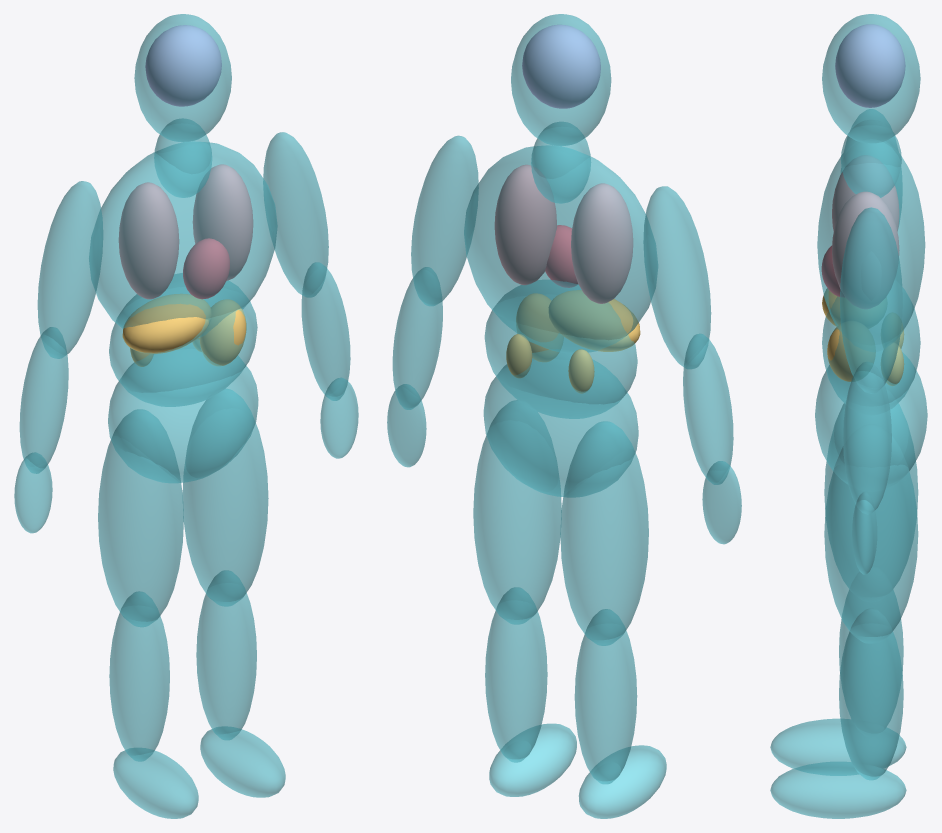
Rendered from male.glb.
The picture shows the model from 3 angles, left to right: view 1: azimuth 30°, elevation 25°; view 2: azimuth 150°, elevation 25°; view 3: azimuth 270°, elevation 25°; orthographic projection. The views are drawn at different scales.
Parts seen in each view (by area): view 1: reference.thorax, reference.pelvis, reference.right.thigh, reference.left.thigh, reference.abdomen, reference.head, reference.right.upper-arm, reference.right.calf, reference.left.calf, reference.left.upper-arm, reference.lung.right, reference.right.forearm (+11 smaller); view 2: reference.thorax, reference.pelvis, reference.abdomen, reference.right.thigh, reference.left.thigh, reference.head, reference.right.upper-arm, reference.left.calf, reference.right.calf, reference.left.upper-arm, reference.lung.right, reference.lung.left (+13 smaller); view 3: reference.left.thigh, reference.thorax, reference.head, reference.left.upper-arm, reference.left.calf, reference.right.thigh, reference.lung.left, reference.right.calf, reference.pelvis, reference.left.foot, reference.left.forearm, reference.right.foot (+10 smaller).
Part boxes in pixels (bbox=[...]): reference.thorax: bbox=[89, 141, 277, 337]; reference.pelvis: bbox=[108, 339, 258, 482]; reference.right.thigh: bbox=[98, 409, 183, 626]; reference.left.thigh: bbox=[182, 389, 268, 606]; reference.abdomen: bbox=[109, 273, 257, 406]; reference.head: bbox=[134, 14, 231, 141]; reference.right.upper-arm: bbox=[37, 181, 103, 358]; reference.right.calf: bbox=[109, 591, 169, 761]; reference.left.calf: bbox=[196, 570, 256, 739]; reference.left.upper-arm: bbox=[263, 132, 328, 297]; reference.lung.right: bbox=[118, 182, 179, 299]; reference.right.forearm: bbox=[19, 327, 68, 473]; reference.thorax: bbox=[464, 145, 657, 353]; reference.pelvis: bbox=[483, 350, 638, 497]; reference.abdomen: bbox=[484, 280, 637, 418]; reference.right.thigh: bbox=[560, 421, 648, 645]; reference.left.thigh: bbox=[473, 400, 561, 624]; reference.head: bbox=[511, 14, 611, 145]; reference.right.upper-arm: bbox=[643, 186, 711, 368]; reference.left.calf: bbox=[485, 587, 547, 762]; reference.right.calf: bbox=[574, 609, 637, 783]; reference.left.upper-arm: bbox=[411, 135, 478, 305]; reference.lung.right: bbox=[571, 183, 633, 303]; reference.lung.left: bbox=[494, 164, 556, 284]; reference.left.thigh: bbox=[824, 436, 918, 643]; reference.thorax: bbox=[817, 142, 925, 334]; reference.head: bbox=[822, 14, 920, 143]; reference.left.upper-arm: bbox=[840, 207, 902, 393]; reference.left.calf: bbox=[839, 609, 903, 779]; reference.right.thigh: bbox=[824, 403, 918, 589]; reference.lung.left: bbox=[832, 191, 899, 308]; reference.right.calf: bbox=[839, 590, 903, 729]; reference.pelvis: bbox=[815, 352, 927, 488]; reference.left.foot: bbox=[770, 761, 906, 818]; reference.left.forearm: bbox=[843, 362, 891, 513]; reference.right.foot: bbox=[770, 718, 906, 775].
Size of the model in its own units: 0.85 by 1.83 by 0.335.
